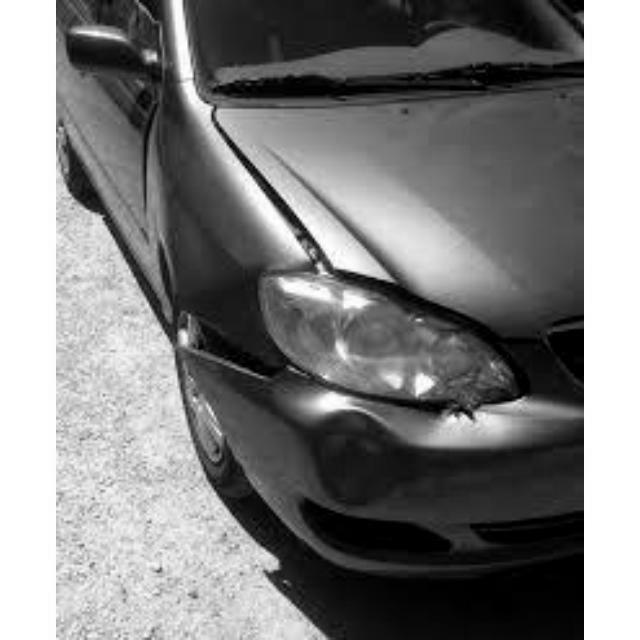bonnet-dent: (228, 78, 582, 311)
front-bumper-dent: (251, 374, 538, 563)
